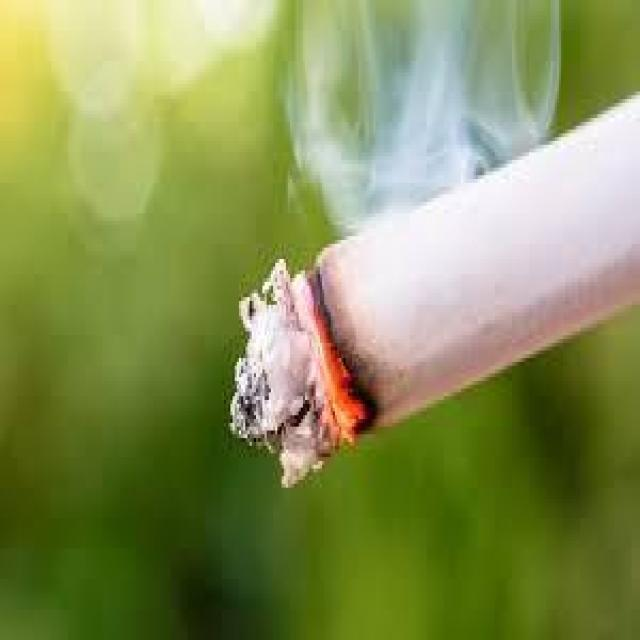Fire: (278, 249, 377, 467)
Smoke: (288, 2, 574, 229)
